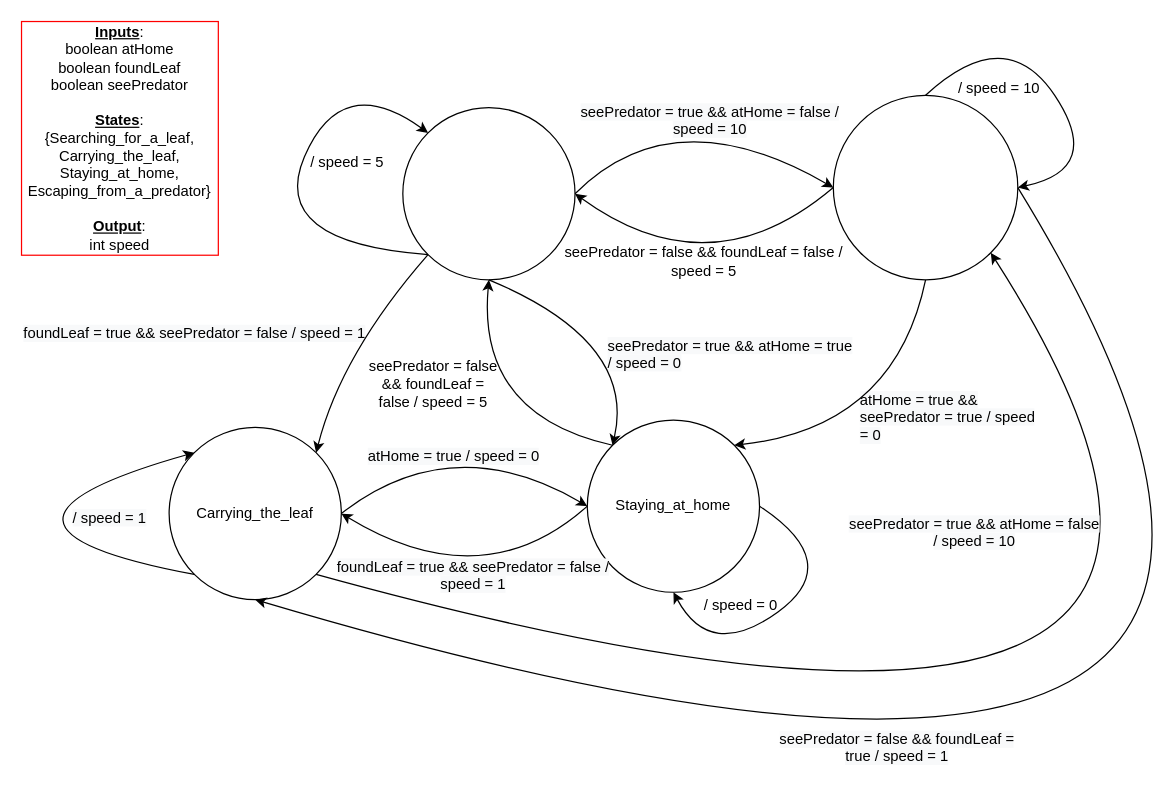
The diagram is 1175 pixels wide and 788 high, and some of its shapes have lost their labels. The shapes that lost their labels are listed below. From the top down, each one's box as (x1, y1, x2, y2) in pixels, then its label:
(402, 106, 575, 280): Searching_for_a_leaf
(832, 94, 1018, 280): Escaping_from_a_predator
